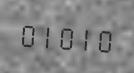one: (37, 17, 55, 52), (75, 20, 93, 54)
zero: (94, 21, 112, 56), (18, 16, 36, 50), (56, 19, 74, 53)
